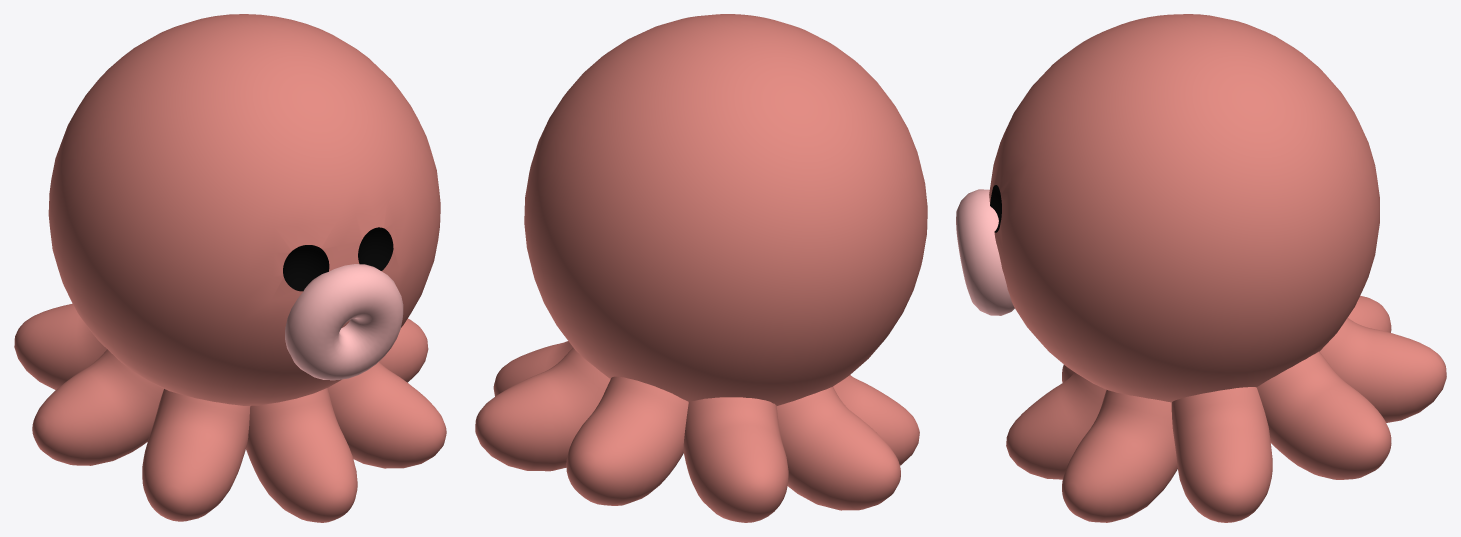
Rendered from emoji-animation-3.glb.
3 renders of one model, left to right at view 1: azimuth 30°, elevation 25°; view 2: azimuth 150°, elevation 25°; view 3: azimuth 270°, elevation 25°, orthographic. The views are drawn at different scales.
Visible parts, largest first — view 1: 부울-redbrown800_std, 클로너, 도넛, 부울-black_std; view 2: 부울-redbrown800_std, 클로너; view 3: 부울-redbrown800_std, 클로너, 도넛.
Part boxes in pixels (x1=…): 부울-redbrown800_std: x1=48, y1=14, x2=440, y2=405; 클로너: x1=14, y1=303, x2=446, y2=522; 도넛: x1=285, y1=264, x2=403, y2=380; 부울-black_std: x1=283, y1=227, x2=393, y2=291; 부울-redbrown800_std: x1=524, y1=14, x2=927, y2=405; 클로너: x1=475, y1=341, x2=919, y2=522; 부울-redbrown800_std: x1=989, y1=14, x2=1379, y2=402; 클로너: x1=1006, y1=295, x2=1446, y2=522; 도넛: x1=956, y1=189, x2=1014, y2=315.
Size of the model in its own units: 224 by 243 by 246.
